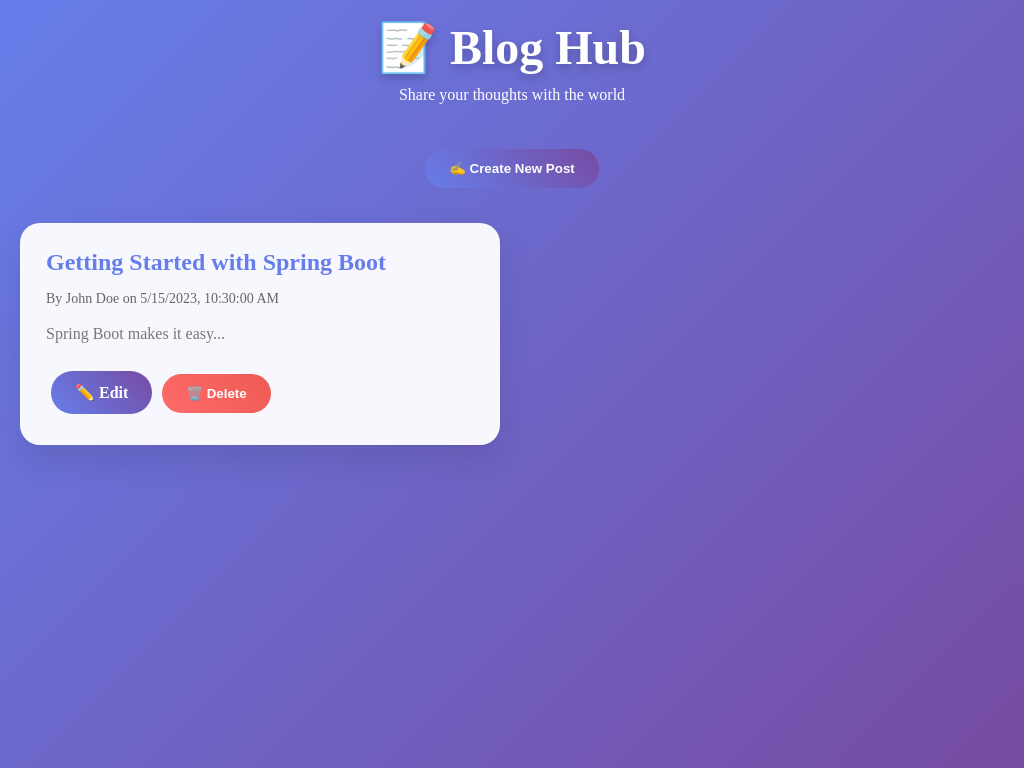
Test: Blog App Combined Tests › Axios_triggers delete on confirmation
Check: the link "Getting Started with Spring Boot" is shown, box [46,249,386,275]
Click the button "🗑️ Delete".
click(216, 394)  # box [162,374,271,413]
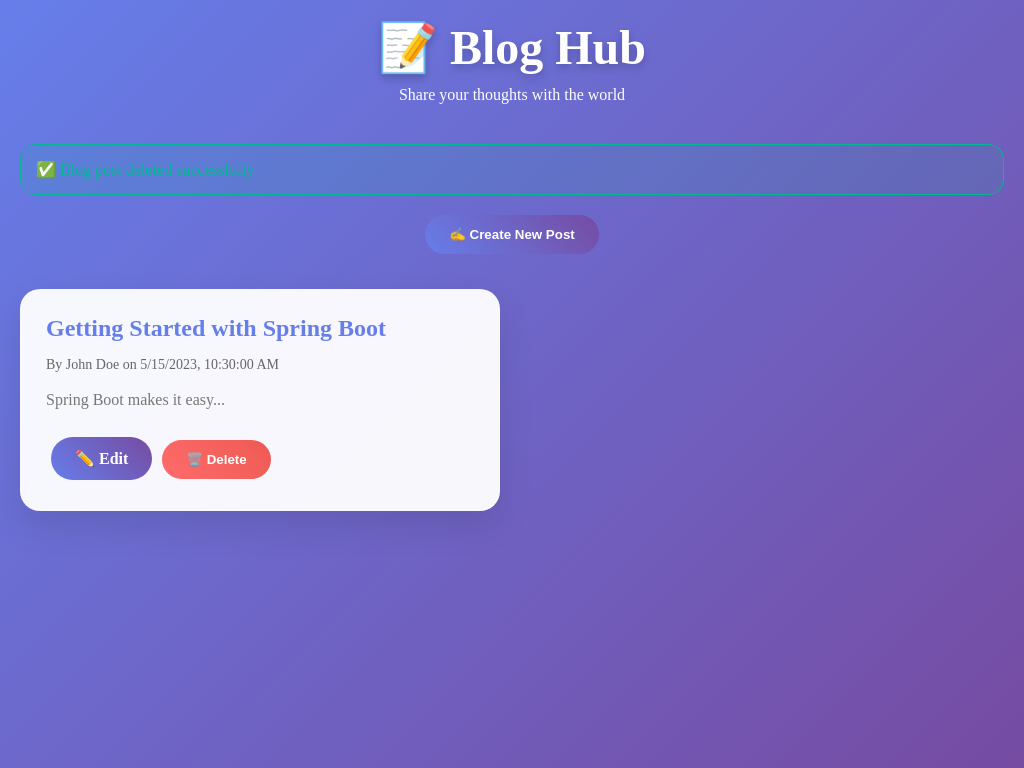
Check: the text "✅ Blog post deleted successfully" is shown, box [20,144,1004,195]
